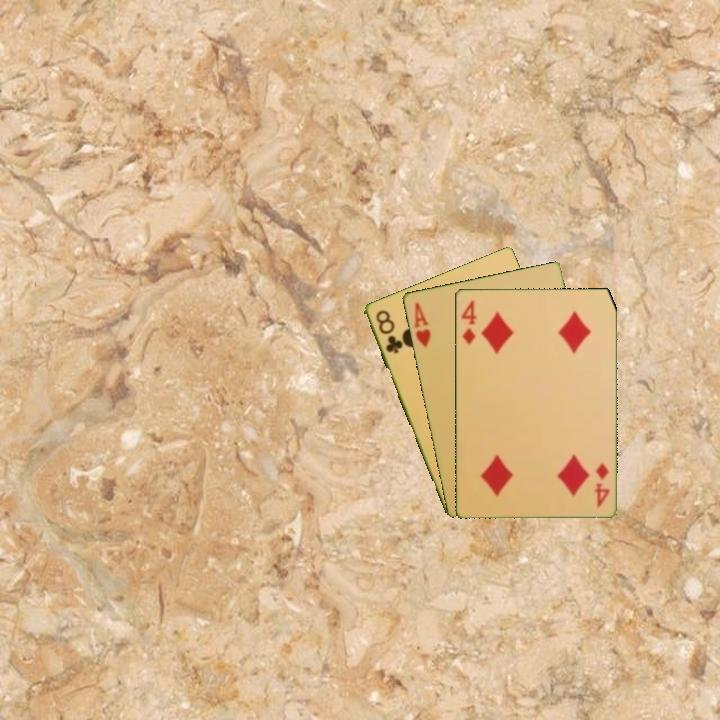4d: (590, 459, 612, 510), (458, 296, 479, 347)
8c: (372, 306, 405, 356)
Ah: (410, 299, 433, 350)
